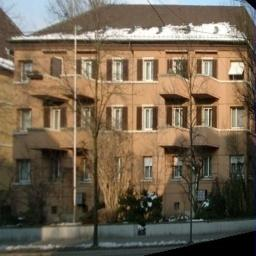building: (14, 0, 251, 222)
